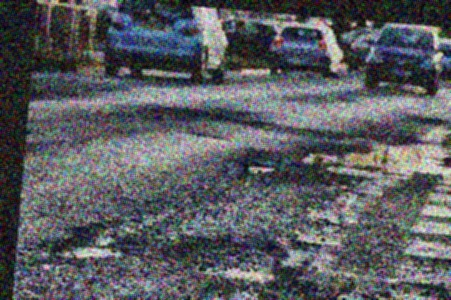pothole: (179, 234, 289, 286), (45, 211, 134, 263), (244, 161, 276, 175)
